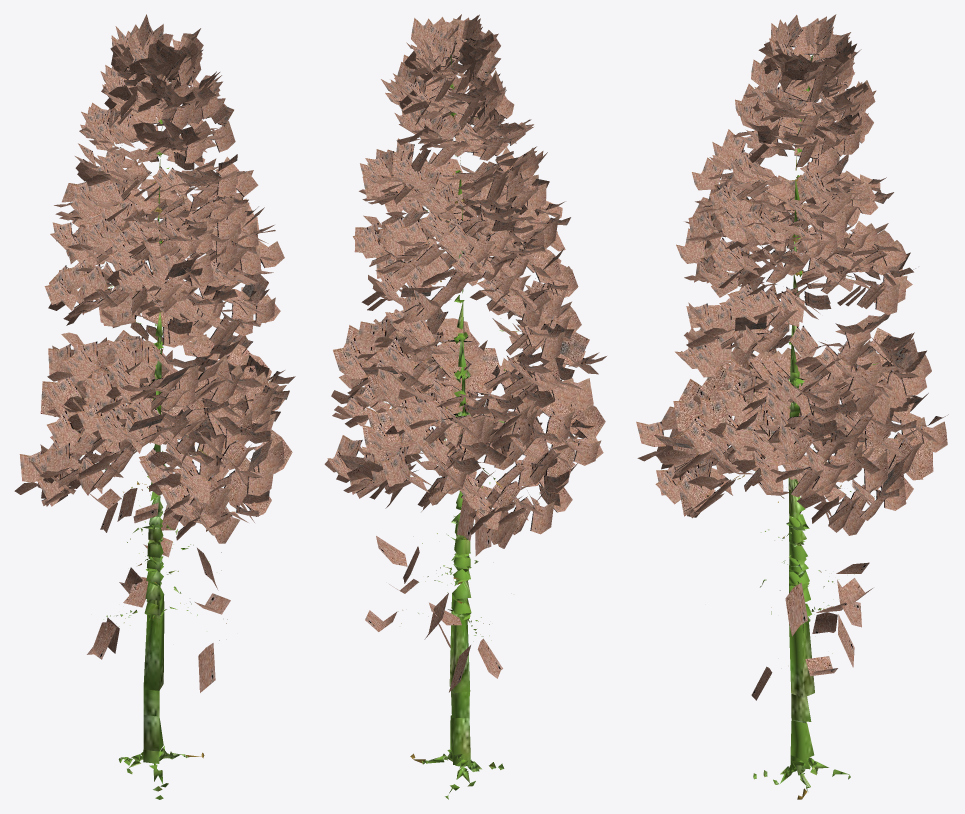
File: tree_5.glb
3 renders of one model, left to right at view 1: azimuth 30°, elevation 25°; view 2: azimuth 150°, elevation 25°; view 3: azimuth 270°, elevation 25°, orthographic. The views are drawn at different scales.
Visible parts, largest first — view 1: Bark___0; view 2: Bark___0; view 3: Bark___0.
Boxes of the visible parts, x1=… form: Bark___0: x1=14, y1=14, x2=295, y2=799; Bark___0: x1=324, y1=14, x2=606, y2=799; Bark___0: x1=636, y1=14, x2=948, y2=799.
Size of the model in its own units: 6.18 by 17.73 by 6.61.
Materials: 1 (1 with a texture image).
